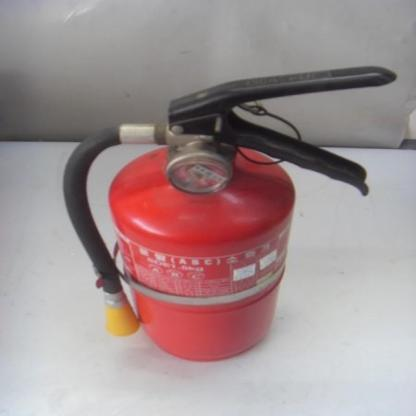Fire Extinguisher: (53, 40, 399, 383)
